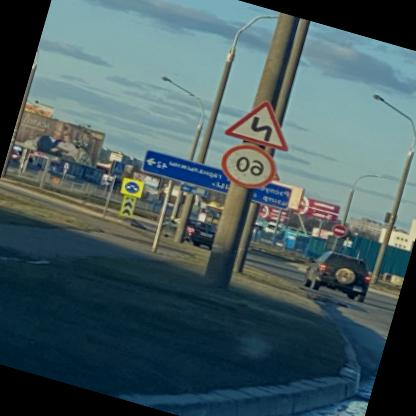speedlimit: (218, 138, 284, 193)
